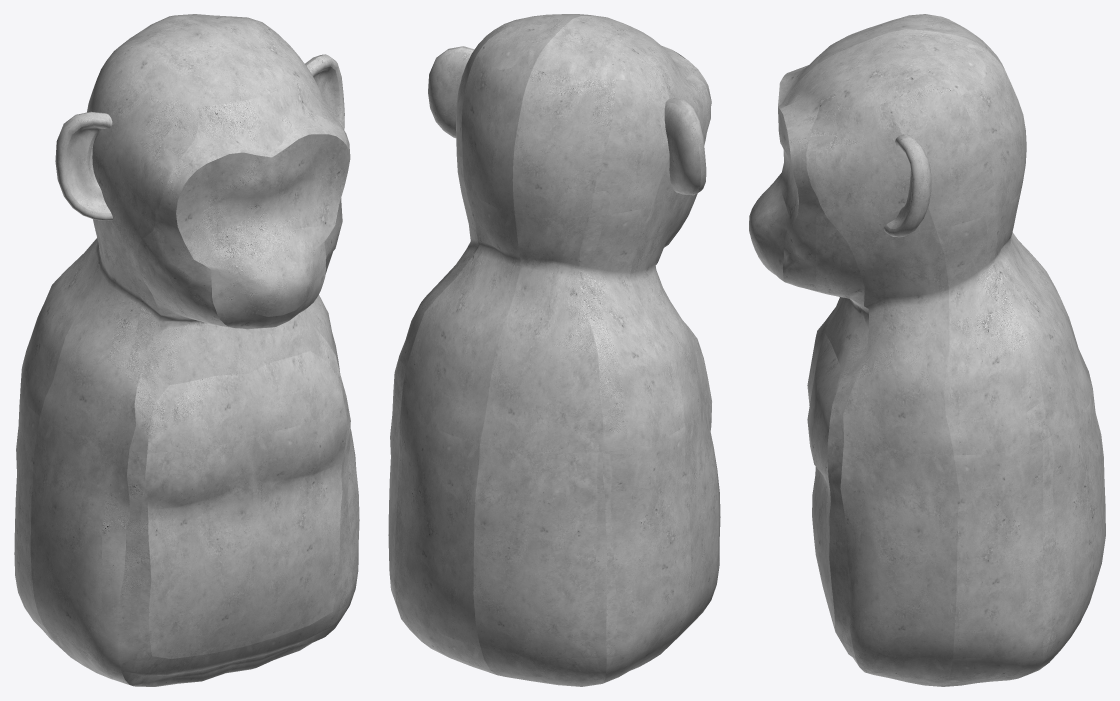
3 renders of one model, left to right at view 1: azimuth 30°, elevation 25°; view 2: azimuth 150°, elevation 25°; view 3: azimuth 270°, elevation 25°, orthographic. The views are drawn at different scales.
Visible parts, largest first — view 1: body_004_0; view 2: body_004_0; view 3: body_004_0.
Boxes of the visible parts, left/top/right/bottom form: body_004_0: left=14, top=14, right=359, bottom=686; body_004_0: left=388, top=14, right=720, bottom=686; body_004_0: left=749, top=14, right=1105, bottom=686.
Size of the model in its own units: 0.3104 by 0.6427 by 0.3318.
1 material, 1 textured.
